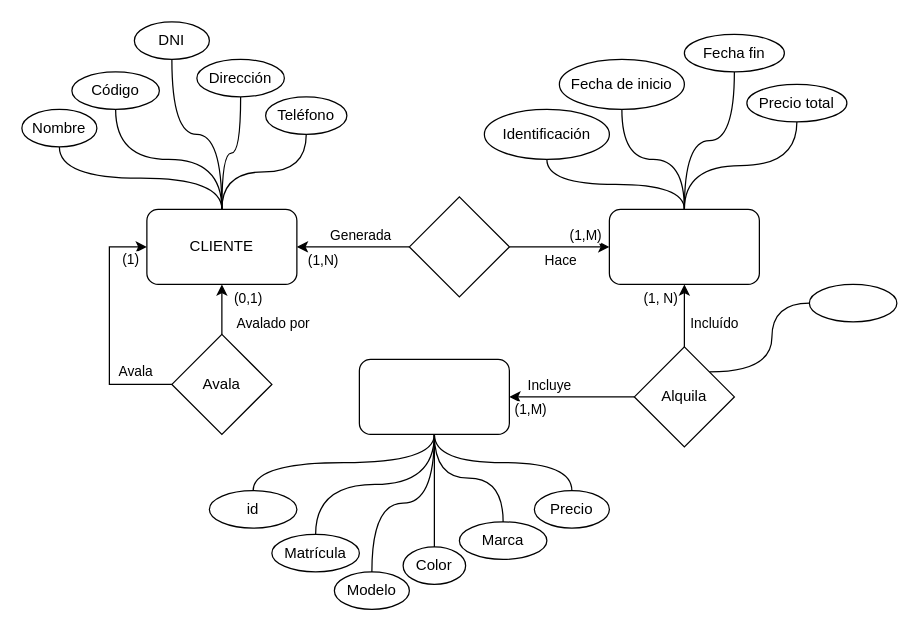
This 919x631 diagram has some shape labels left out. The shapes that lost their labels are listed below. From the top down, each one's box as (x1, y1, x2, y2) in pixels, then its label:
(408, 196, 509, 297): Realiza
(608, 208, 759, 284): RESERVA
(808, 283, 897, 322): gasolina
(358, 358, 509, 434): COCHE
